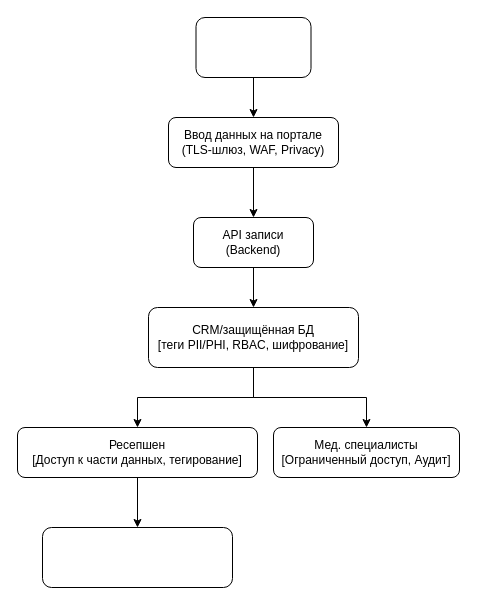
Some shapes in this 477 by 605 pixel diagram are drawn without their labels. The centre of each missing label's shape, as x and y in pixels:
Логирование и аудит (SIEM) Мониторинг всех обращений: (137,557)
Пациент: (253,47)
